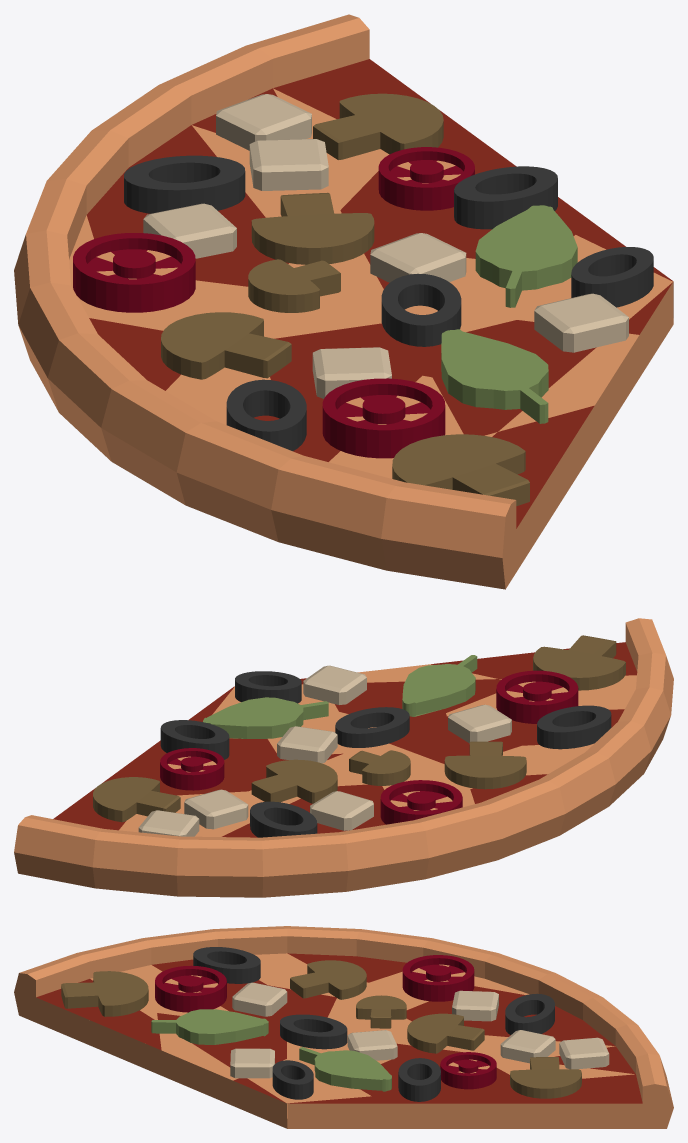
The model's file is pizza_4_partyassets.fbx.
3 renders of one model, top to bottom at view 1: azimuth 30°, elevation 25°; view 2: azimuth 150°, elevation 25°; view 3: azimuth 270°, elevation 25°, orthographic. The views are drawn at different scales.
Visible parts, largest first — view 1: pizza_4_partyassets, Cube.058, Cube.051, Cube.054, Cube.056, Cube.093, Cube.055; view 2: pizza_4_partyassets, Cube.058, Cube.051, Cube.054, Cube.056, Cube.093, Cube.055; view 3: pizza_4_partyassets, Cube.058, Cube.051, Cube.054, Cube.056, Cube.093, Cube.055.
Part boxes in pixels (bbox=[...]): pizza_4_partyassets: bbox=[14, 14, 673, 589]; Cube.058: bbox=[86, 59, 672, 528]; Cube.051: bbox=[161, 93, 529, 505]; Cube.054: bbox=[124, 155, 653, 451]; Cube.056: bbox=[143, 94, 628, 398]; Cube.093: bbox=[73, 147, 474, 458]; Cube.055: bbox=[441, 205, 577, 423]; pizza_4_partyassets: bbox=[14, 618, 673, 897]; Cube.058: bbox=[53, 642, 637, 837]; Cube.051: bbox=[93, 635, 625, 822]; Cube.054: bbox=[160, 671, 611, 837]; Cube.056: bbox=[138, 665, 511, 836]; Cube.093: bbox=[160, 670, 578, 824]; Cube.055: bbox=[203, 655, 477, 738]; pizza_4_partyassets: bbox=[14, 926, 673, 1128]; Cube.058: bbox=[36, 953, 642, 1103]; Cube.051: bbox=[61, 960, 581, 1098]; Cube.054: bbox=[193, 947, 554, 1101]; Cube.056: bbox=[230, 982, 609, 1078]; Cube.093: bbox=[155, 955, 496, 1089]; Cube.055: bbox=[151, 1009, 391, 1091].
Size of the model in its own units: 21.67 by 2.78 by 36.99.
